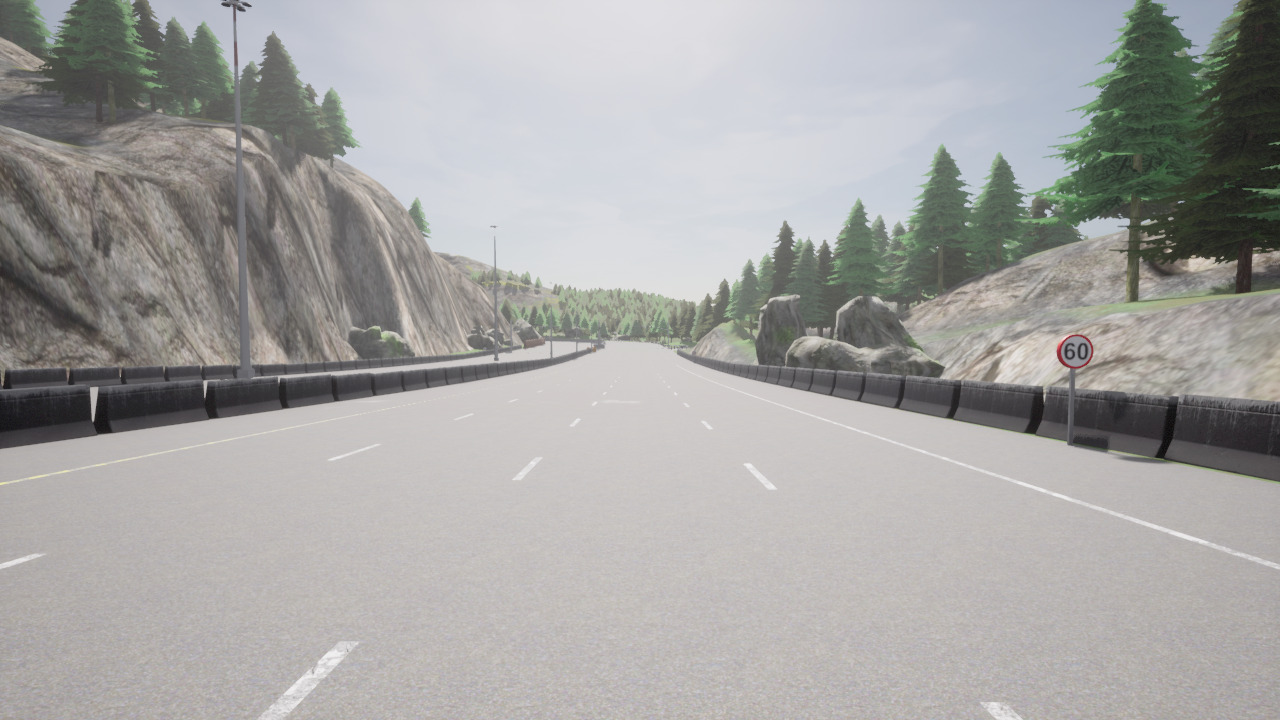sl60: (1055, 333, 1096, 369)
